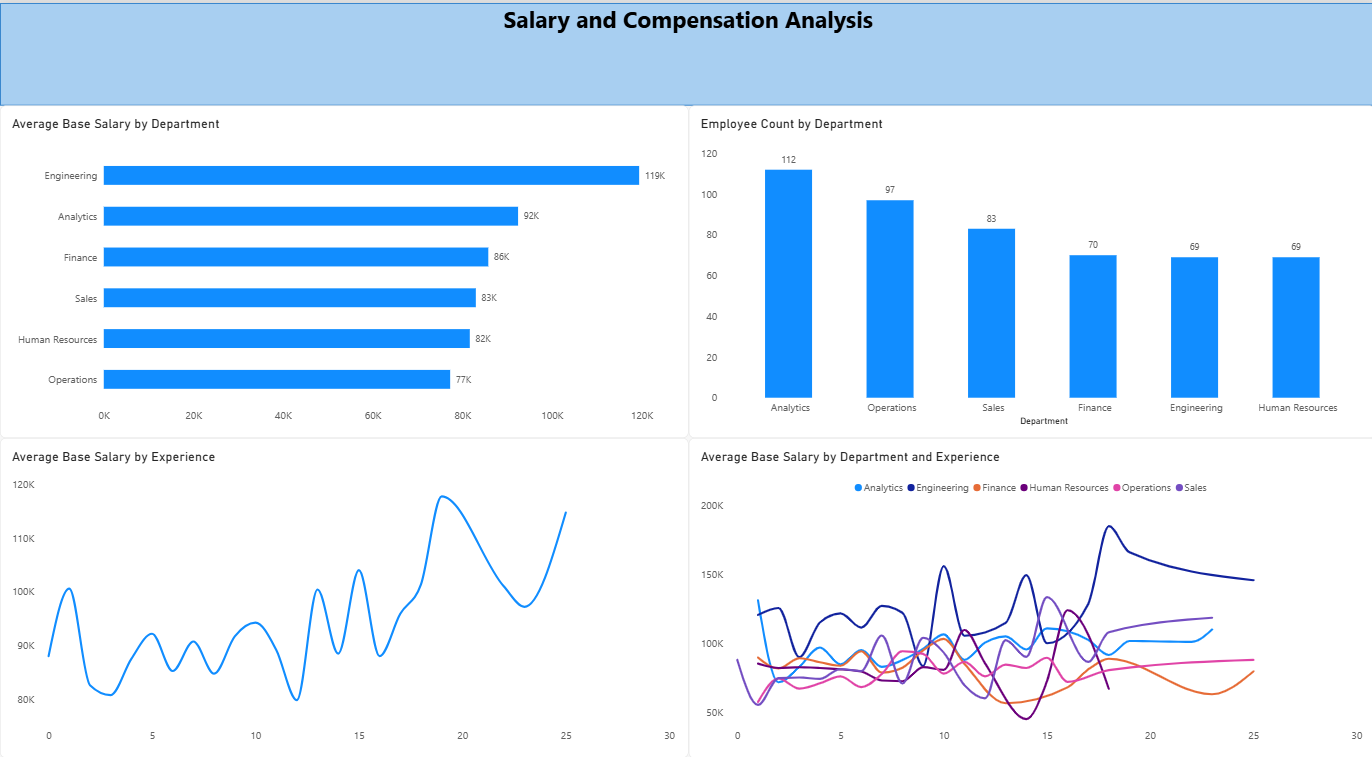

Layout of this report page (visuals, bound fields, positions):
{"tool":"powerbi","page":{"name":"Page 1","canvas":[1920,1080],"ordinal":0},"visuals":[{"type":"shape","box":[0,0,1920.4,143],"z":0},{"type":"clusteredBarChart","title":"Average Base Salary by Department","fields":{"Category":["Salary_Compensation_Data_Working_cleaned_copy.Department"],"Y":["Avg(Salary_Compensation_Data_Working_cleaned_copy.Base_Salary_USD)"]},"box":[0,143,961,464],"z":1000},{"type":"clusteredColumnChart","title":"Employee Count by Department","fields":{"Category":["Salary_Compensation_Data_Working_cleaned_copy.Department"],"Y":["CountNonNull(Salary_Compensation_Data_Working_cleaned_copy.Employee_ID)"]},"box":[961,143,959.3,464],"z":2000},{"type":"lineChart","title":"Average Base Salary by Experience","fields":{"Category":["Salary_Compensation_Data_Working_cleaned_copy.Experience_Years"],"Y":["Avg(Salary_Compensation_Data_Working_cleaned_copy.Base_Salary_USD)"]},"box":[0,607,961,446.5],"z":3000},{"type":"textbox","box":[0,0,1920.4,143],"z":4000},{"type":"lineChart","title":"Average Base Salary by Department and Experience","fields":{"Category":["Salary_Compensation_Data_Working_cleaned_copy.Experience_Years"],"Series":["Salary_Compensation_Data_Working_cleaned_copy.Department"],"Y":["Avg(Salary_Compensation_Data_Working_cleaned_copy.Base_Salary_USD)"]},"box":[961,607,959,447],"z":5000}]}

Visuals, with their boxes in screenshot pixels (x1, y1, x2, y2), scaled from the page's 1920x1080 canvas onto the 1372x757 screenshot:
shape: select_region(0, 0, 1371, 100)
"Average Base Salary by Department" clusteredBarChart: select_region(0, 100, 687, 425)
"Employee Count by Department" clusteredColumnChart: select_region(687, 100, 1371, 425)
"Average Base Salary by Experience" lineChart: select_region(0, 425, 687, 738)
textbox: select_region(0, 0, 1371, 100)
"Average Base Salary by Department and Experience" lineChart: select_region(687, 425, 1371, 739)
